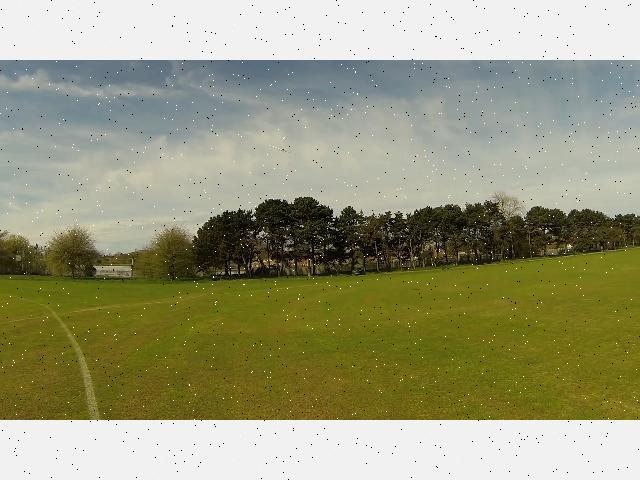Anti-Drone: (258, 138, 304, 166)
